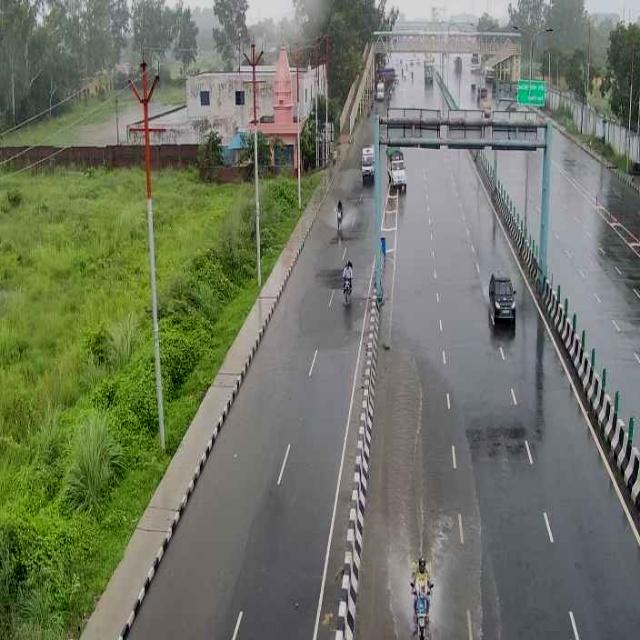car: (485, 262, 524, 331), (386, 145, 412, 193), (359, 143, 375, 183)
